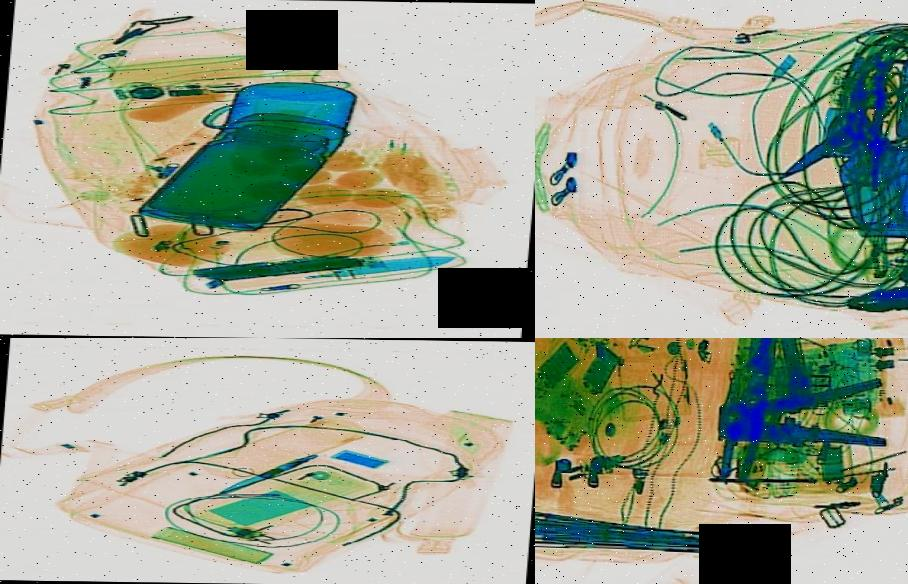Knife: (300, 249, 457, 283), (211, 451, 319, 498)
Pliers: (707, 372, 902, 454), (835, 257, 908, 328)
